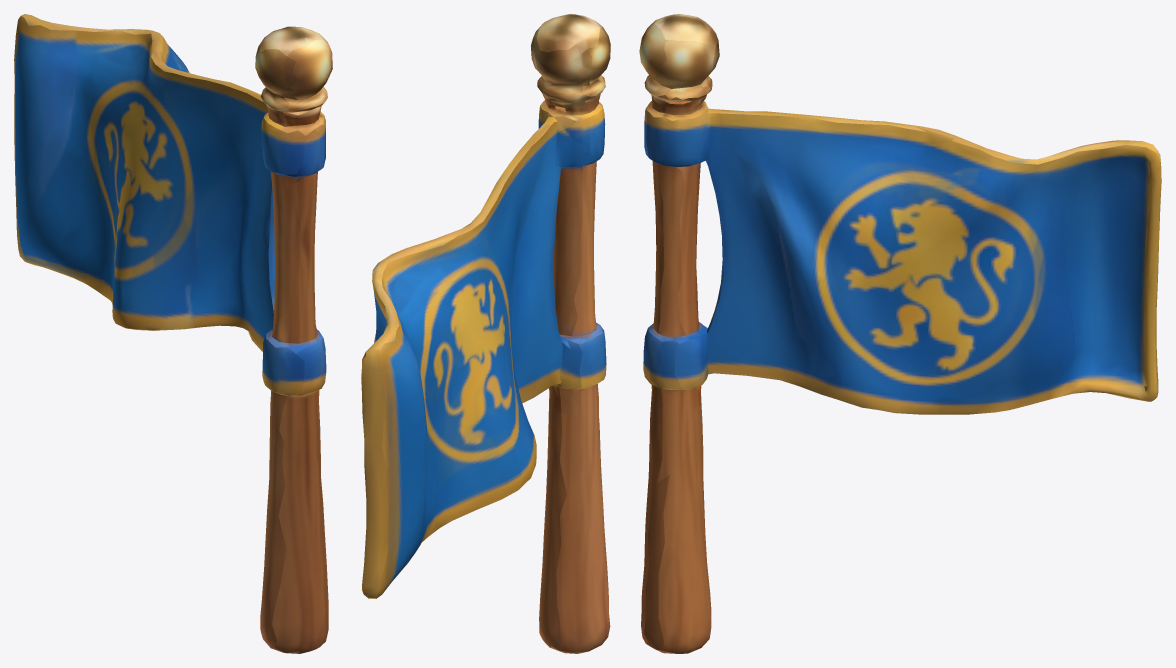
The model's file is ENV-08.glb.
3 renders of one model, left to right at view 1: azimuth 30°, elevation 25°; view 2: azimuth 150°, elevation 25°; view 3: azimuth 270°, elevation 25°, orthographic. The views are drawn at different scales.
Visible parts, largest first — view 1: ENV-08; view 2: ENV-08; view 3: ENV-08.
Part boxes in pixels (<box>): ENV-08: <box>14,14,332,653</box>; ENV-08: <box>361,14,610,653</box>; ENV-08: <box>639,14,1161,653</box>.
Size of the model in its own units: 0.4612 by 2.2 by 1.66.
1 material, 1 textured.
